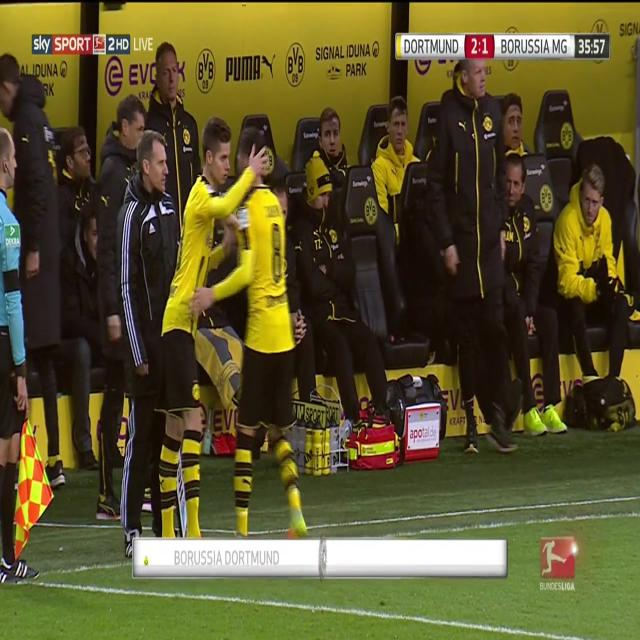Player: (194, 126, 310, 535), (158, 115, 250, 538)
Referee: (0, 124, 39, 585)
